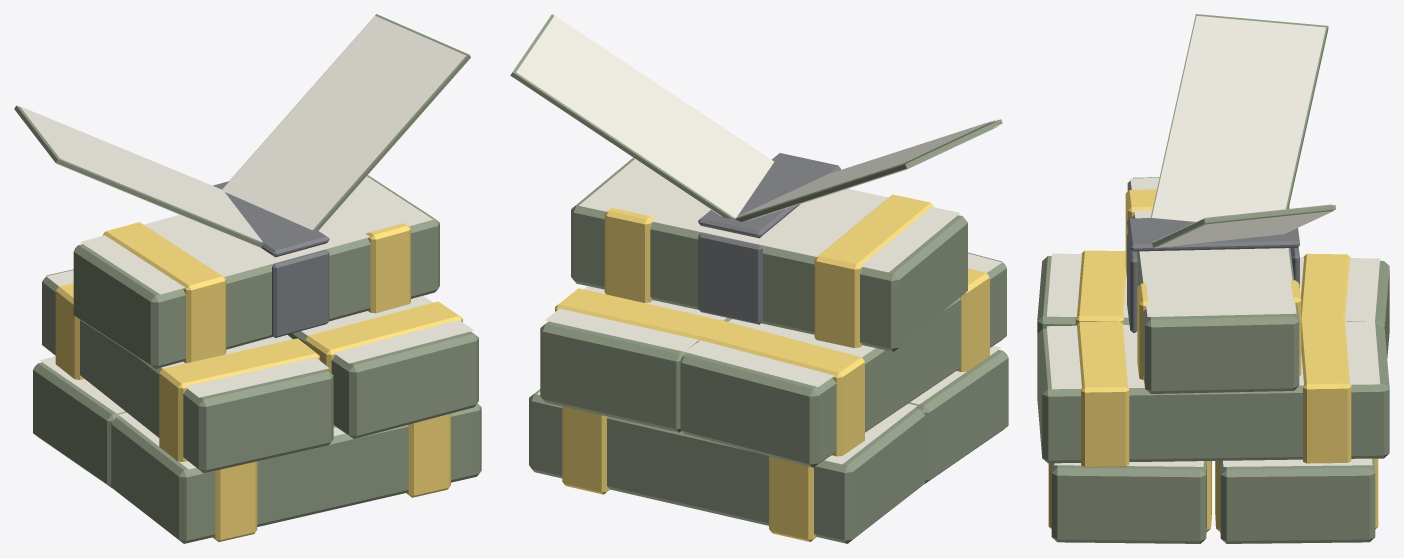
Rendered from Pickup_Payday.fbx.
3 views of the same model, side by side, from view 1: azimuth 30°, elevation 25°; view 2: azimuth 150°, elevation 25°; view 3: azimuth 270°, elevation 25° (orthographic). The views are drawn at different scales.
Parts seen in each view (by area): view 1: Pickup_Payday; view 2: Pickup_Payday; view 3: Pickup_Payday.
Part boxes in pixels (x1=…): Pickup_Payday: x1=14, y1=14, x2=481, y2=543; Pickup_Payday: x1=510, y1=14, x2=1008, y2=543; Pickup_Payday: x1=1037, y1=14, x2=1389, y2=543.
Size of the model in its own units: 0.5062 by 0.4104 by 0.3649.
